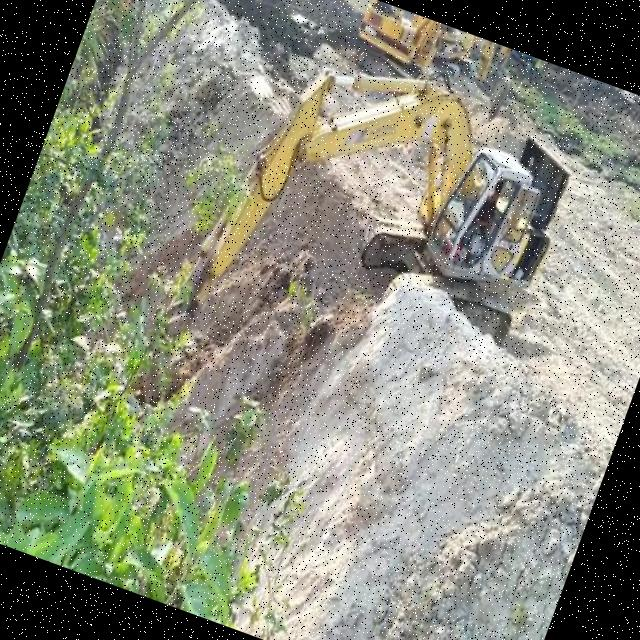Excavator: (149, 3, 597, 451)
